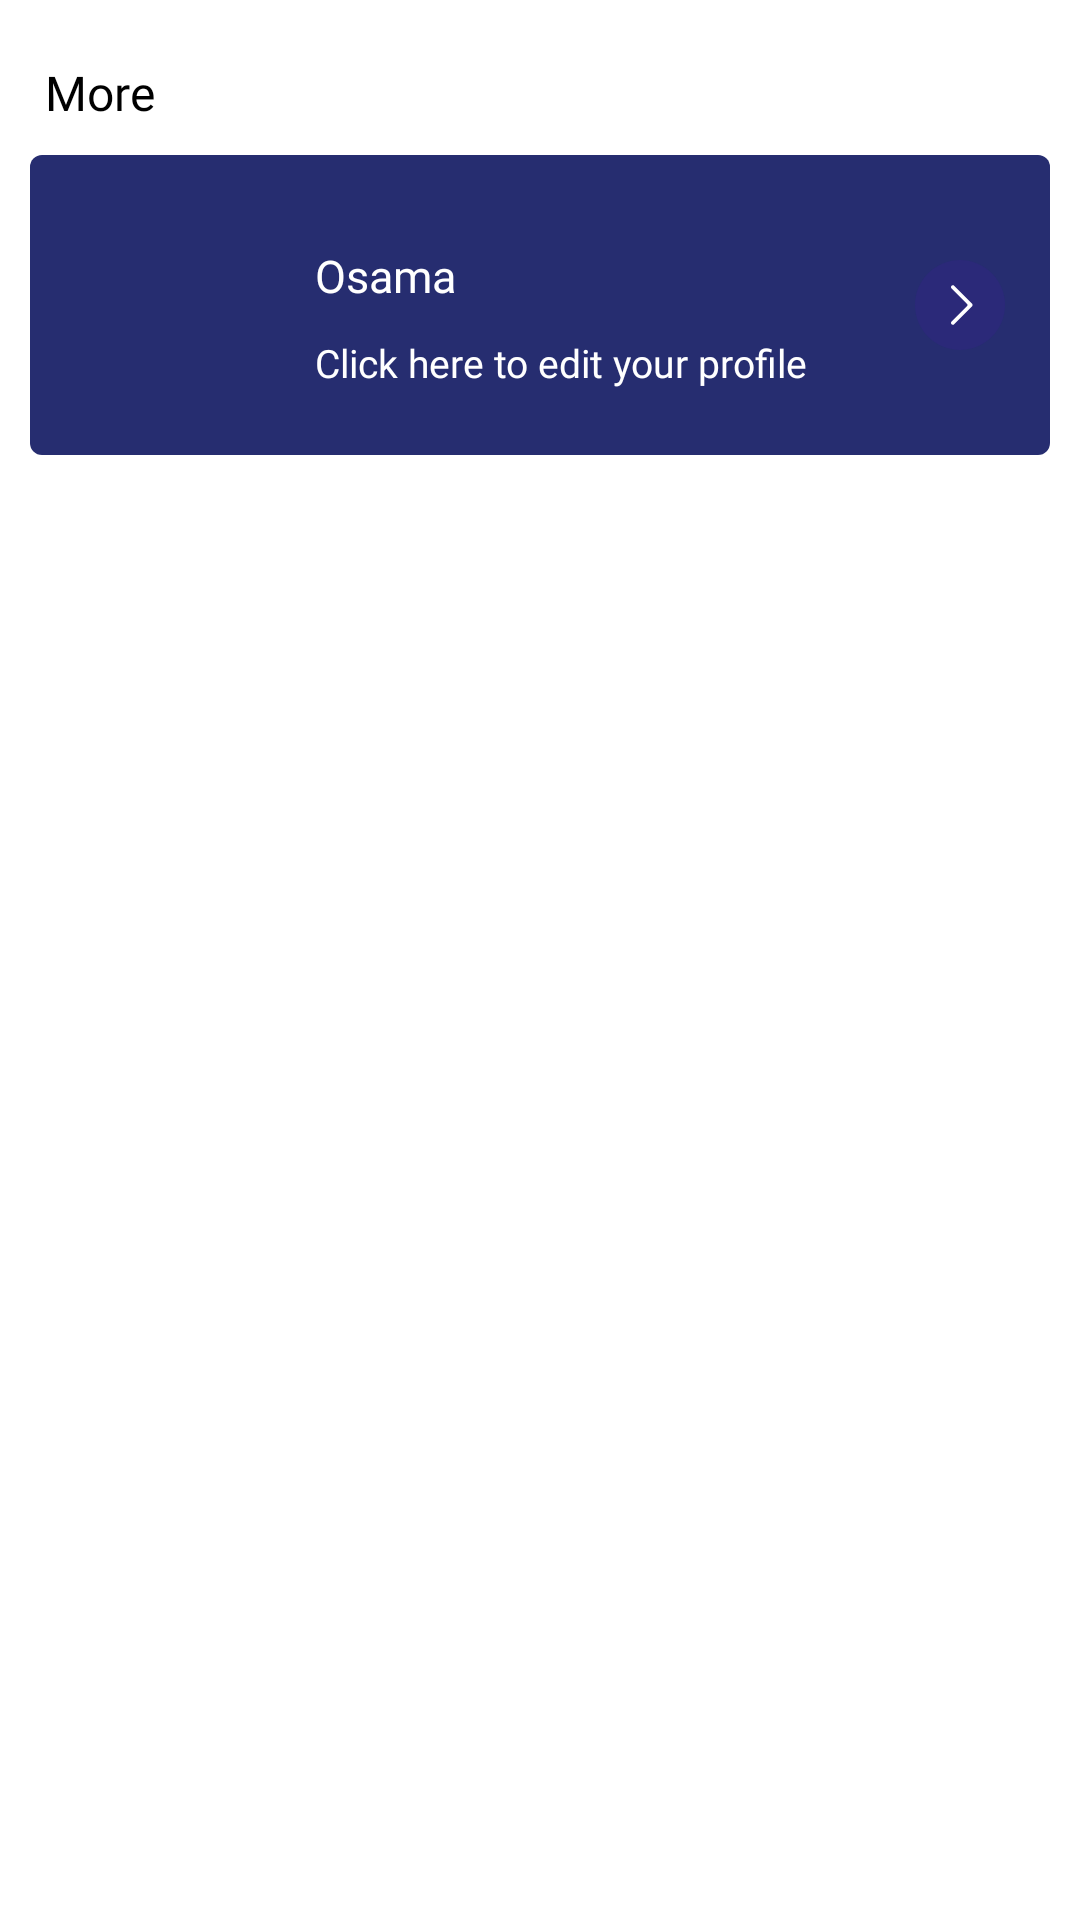

Screen size 1080px x 1920px. Icon name, then its box in pixels as bbox(x1, y1, x2, y2):
arrow right: bbox(915, 260, 1004, 350)
